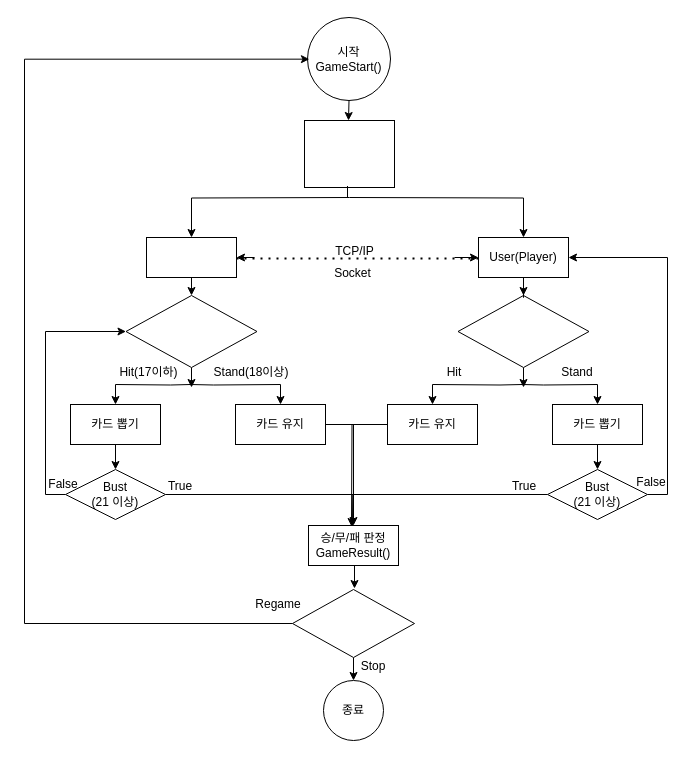
This 699x758 diagram has some shape labels left out. The shapes that lost their labels are listed below. From the top down, each one's centre as x and y in pixels, then its label:
At point 349,154: "카드 배분 (1장) ServerDraw() ClientDraw()".
At point 191,257: "Server(Dealer)".
At point 191,331: "Hit/Stand SetServerDraw()".
At point 523,331: "Hit/Stand SendClientDraw()".
At point 353,623: "Regame/Stop AskForRetry()".
